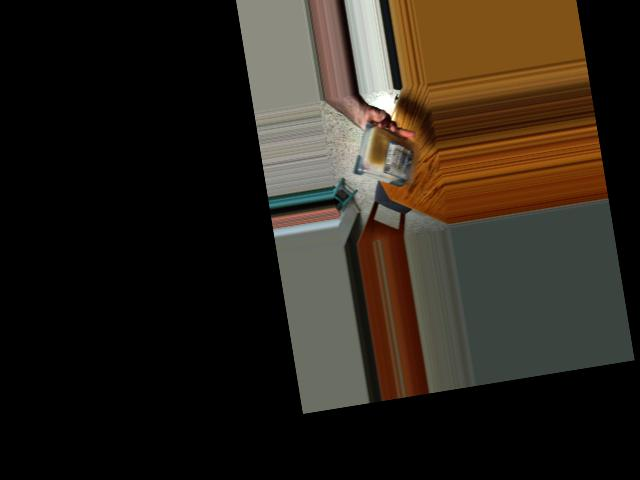cheese: (349, 132, 420, 193)
